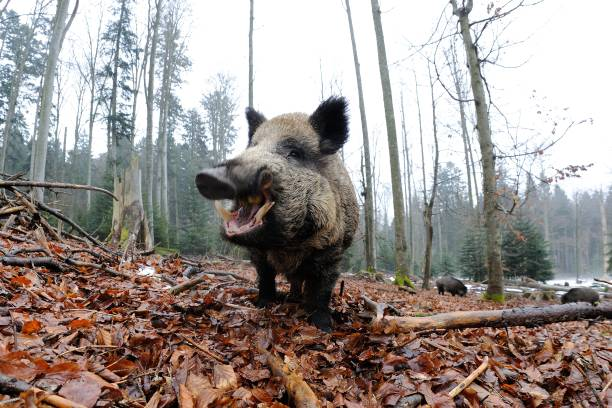pig: (191, 92, 349, 291)
